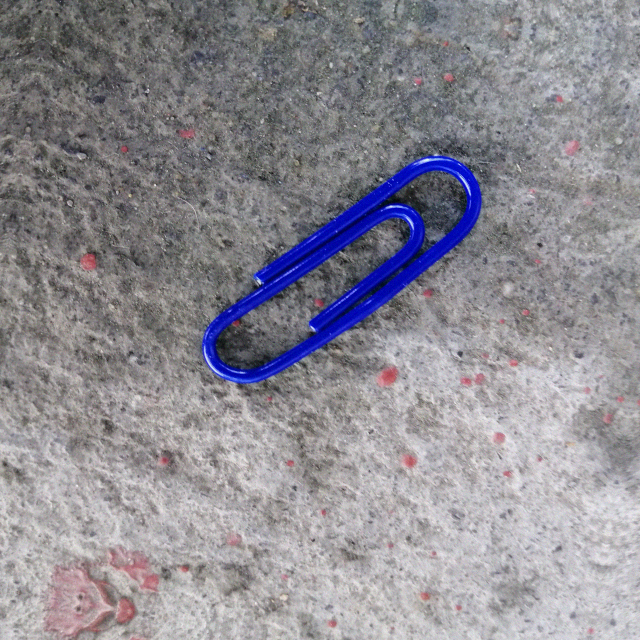pin: (203, 113, 486, 420)
